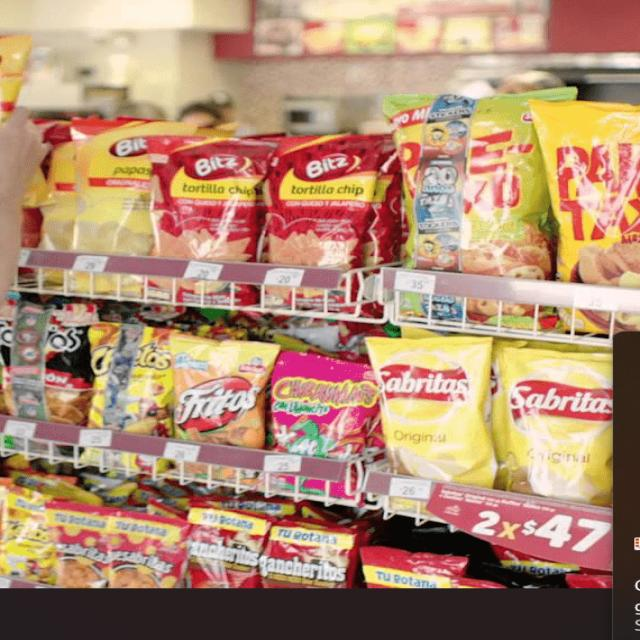churrumais: (272, 358, 365, 458)
sabritasOriginal: (505, 344, 609, 498), (382, 339, 492, 479)
